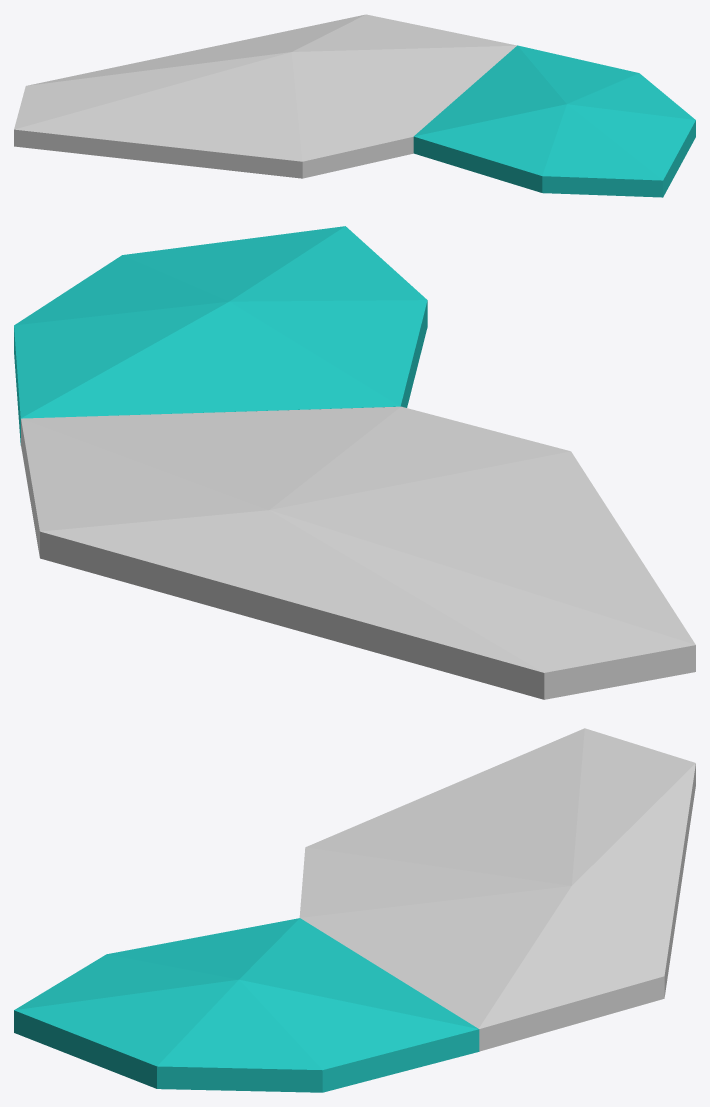
File: Flat_01_Collider_01.FBX
3 renders of one model, top to bottom at view 1: azimuth 30°, elevation 25°; view 2: azimuth 150°, elevation 25°; view 3: azimuth 270°, elevation 25°, orthographic. The views are drawn at different scales.
Visible parts, largest first — view 1: COLLIDER1, COLLIDER2; view 2: COLLIDER1, COLLIDER2; view 3: COLLIDER1, COLLIDER2.
Part boxes in pixels (box(x1,y1,x2,y2)): COLLIDER1: box(14, 14, 516, 178); COLLIDER2: box(413, 45, 695, 197); COLLIDER1: box(21, 406, 695, 699); COLLIDER2: box(14, 226, 427, 445); COLLIDER1: box(299, 728, 695, 1051); COLLIDER2: box(14, 918, 479, 1092).
Bounding box in the file's own units: 227 × 14.14 × 192.
